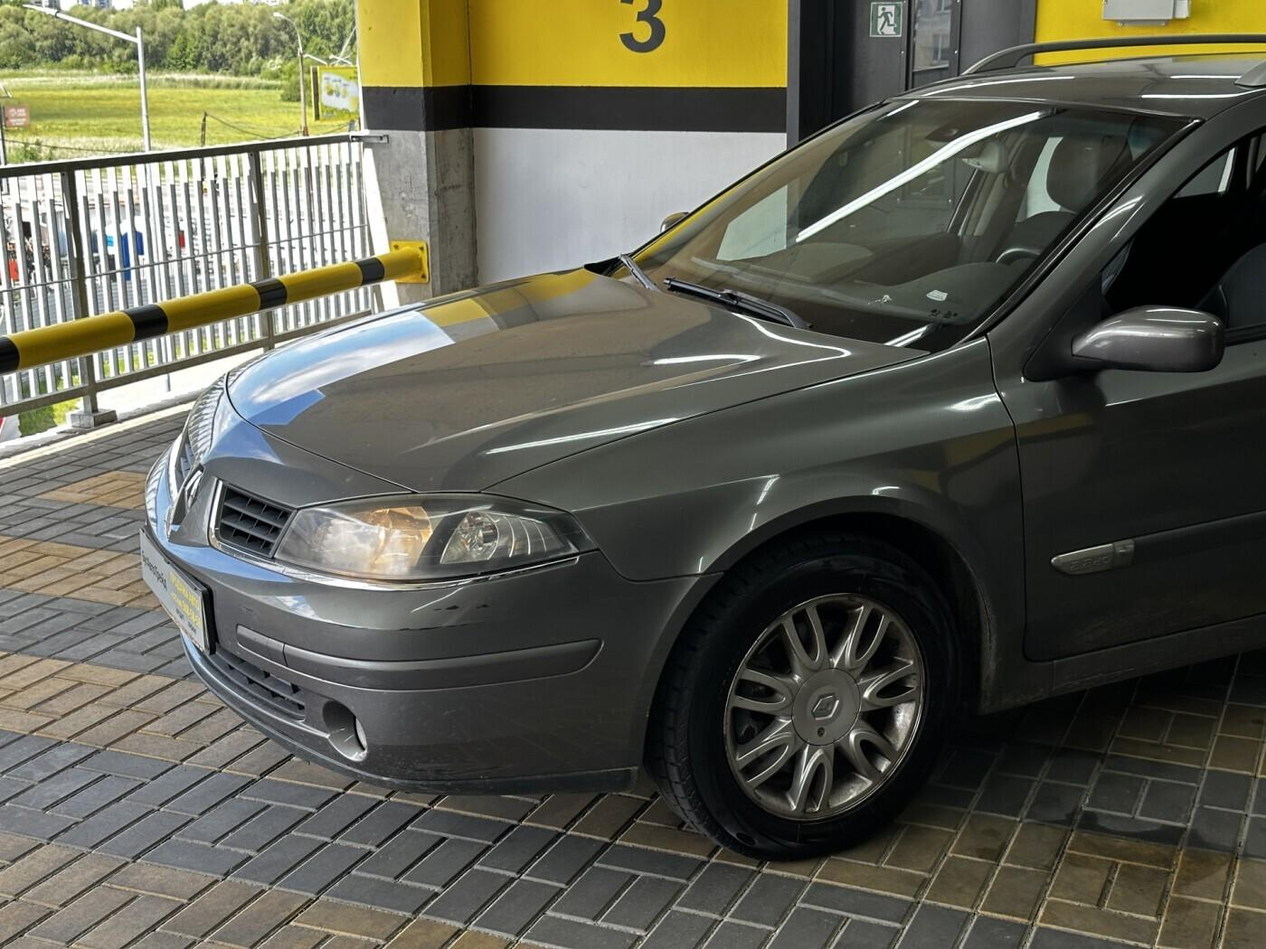Laguna_2005-2007: (133, 43, 1266, 860)
